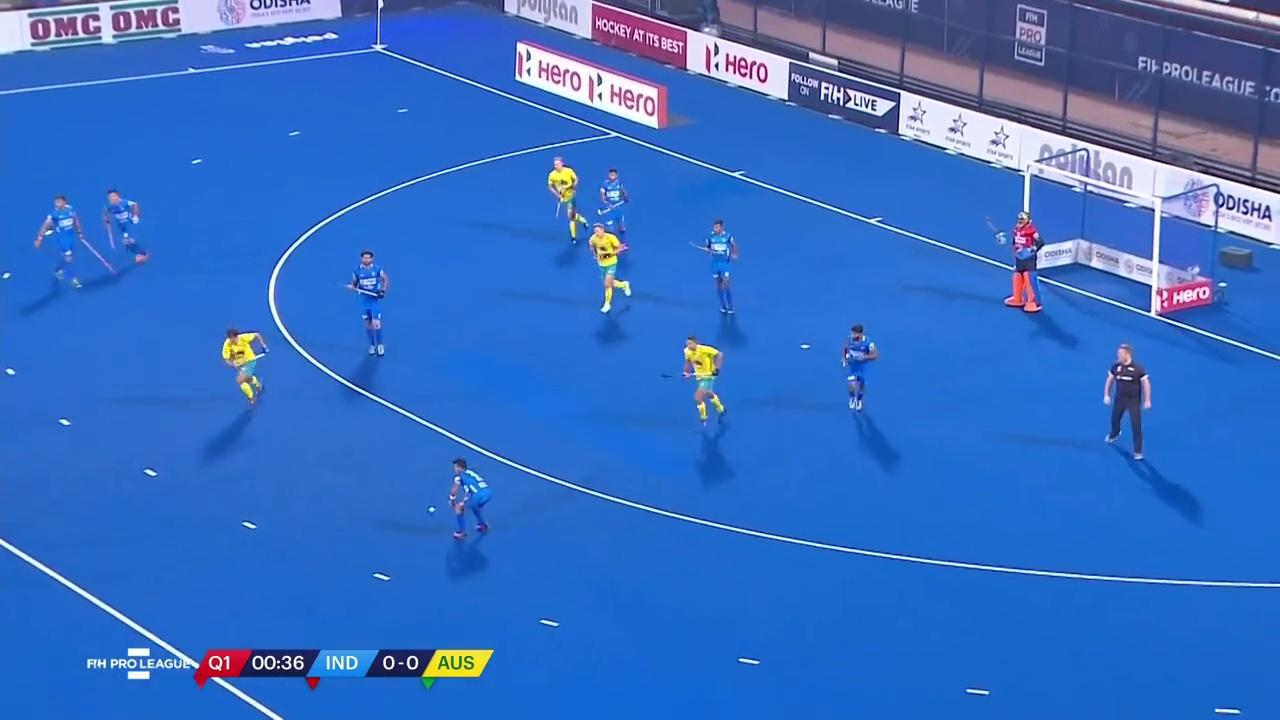ball: (423, 504, 439, 515)
